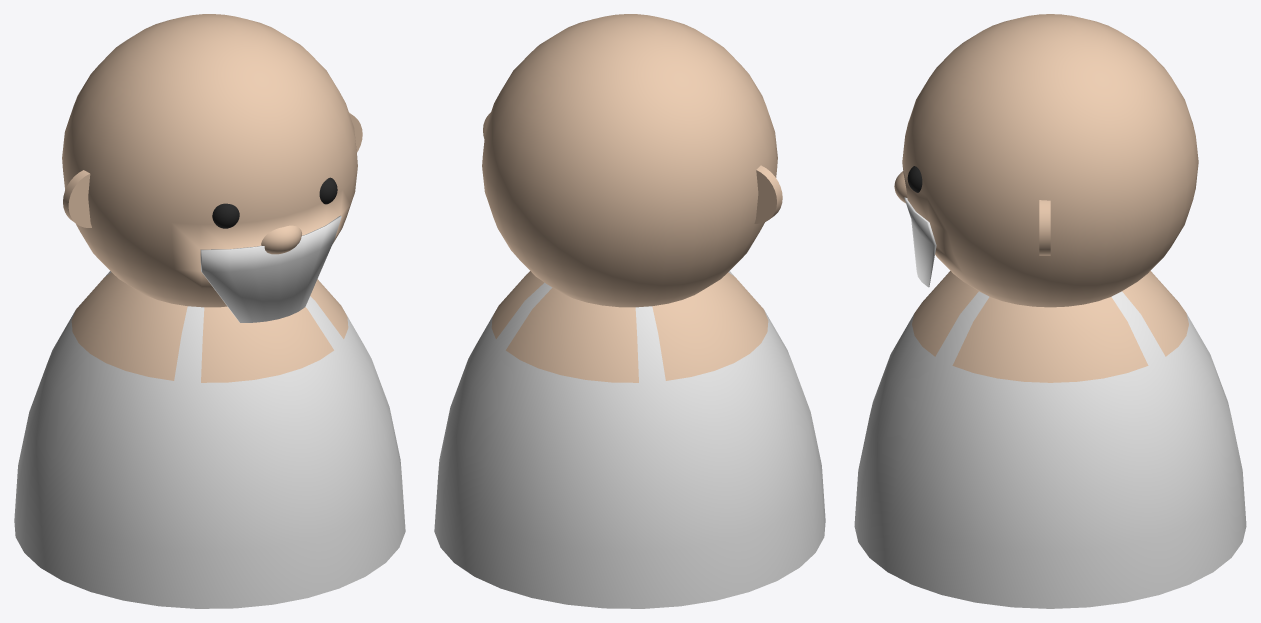
The model's file is santa_body.glb.
3 views of the same model, side by side, from view 1: azimuth 30°, elevation 25°; view 2: azimuth 150°, elevation 25°; view 3: azimuth 270°, elevation 25° (orthographic).
Parts seen in each view (by area): view 1: body, head, eyar, eye, nose; view 2: body, head, eyar; view 3: body, head, eyar.
Boxes of the visible parts, left/top/right/bottom form: body: left=14, top=271, right=405, bottom=608; head: left=62, top=14, right=357, bottom=322; eyar: left=63, top=112, right=362, bottom=227; eye: left=212, top=177, right=337, bottom=228; nose: left=261, top=225, right=301, bottom=254; body: left=434, top=271, right=825, bottom=608; head: left=482, top=14, right=777, bottom=307; eyar: left=483, top=112, right=782, bottom=223; body: left=854, top=271, right=1246, bottom=608; head: left=902, top=14, right=1198, bottom=307; eyar: left=1039, top=200, right=1050, bottom=255.
Bounding box in the file's own units: 1.85 × 2.6 × 1.85.
